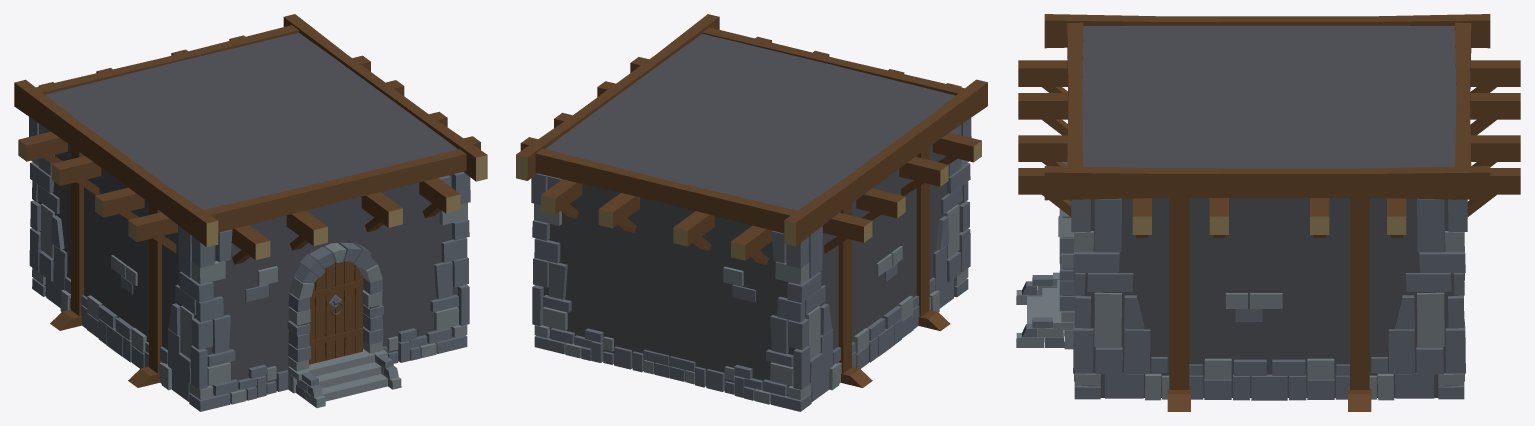
The model's file is fantasy_house.glb.
The picture shows the model from 3 angles, left to right: view 1: azimuth 30°, elevation 25°; view 2: azimuth 150°, elevation 25°; view 3: azimuth 270°, elevation 25°; orthographic projection. The views are drawn at different scales.
Visible parts, largest first — view 1: House_4; view 2: House_4; view 3: House_4.
Part boxes in pixels (box(x1,y1,x2,y2)): House_4: box(14, 14, 487, 411); House_4: box(516, 14, 987, 411); House_4: box(1016, 14, 1520, 411).
Bounding box in the file's own units: 1.94 × 1.07 × 2.12.
